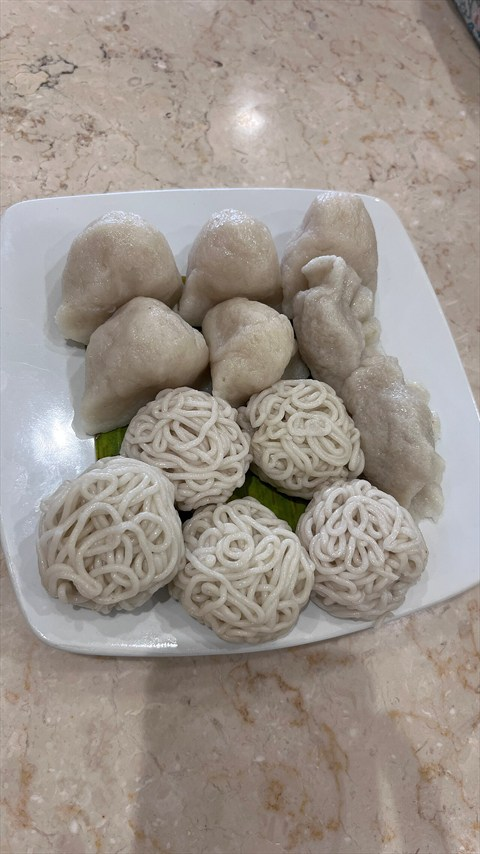Pempek: (55, 248, 383, 678)
